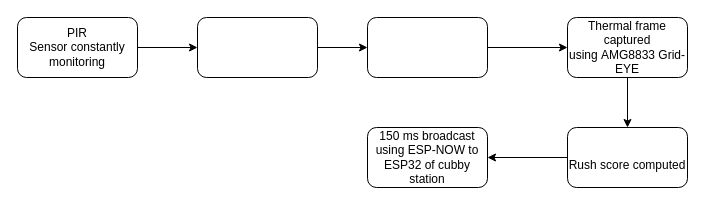
Image size: 705x205. Some labels were removed from this diagram. Here are the shapes that lost their labels. From the top down, the centre of each, then its label:
At (x=257, y=47): "Kitchen motion detected".
At (x=427, y=47): "ESP32 -C3 wakes".
